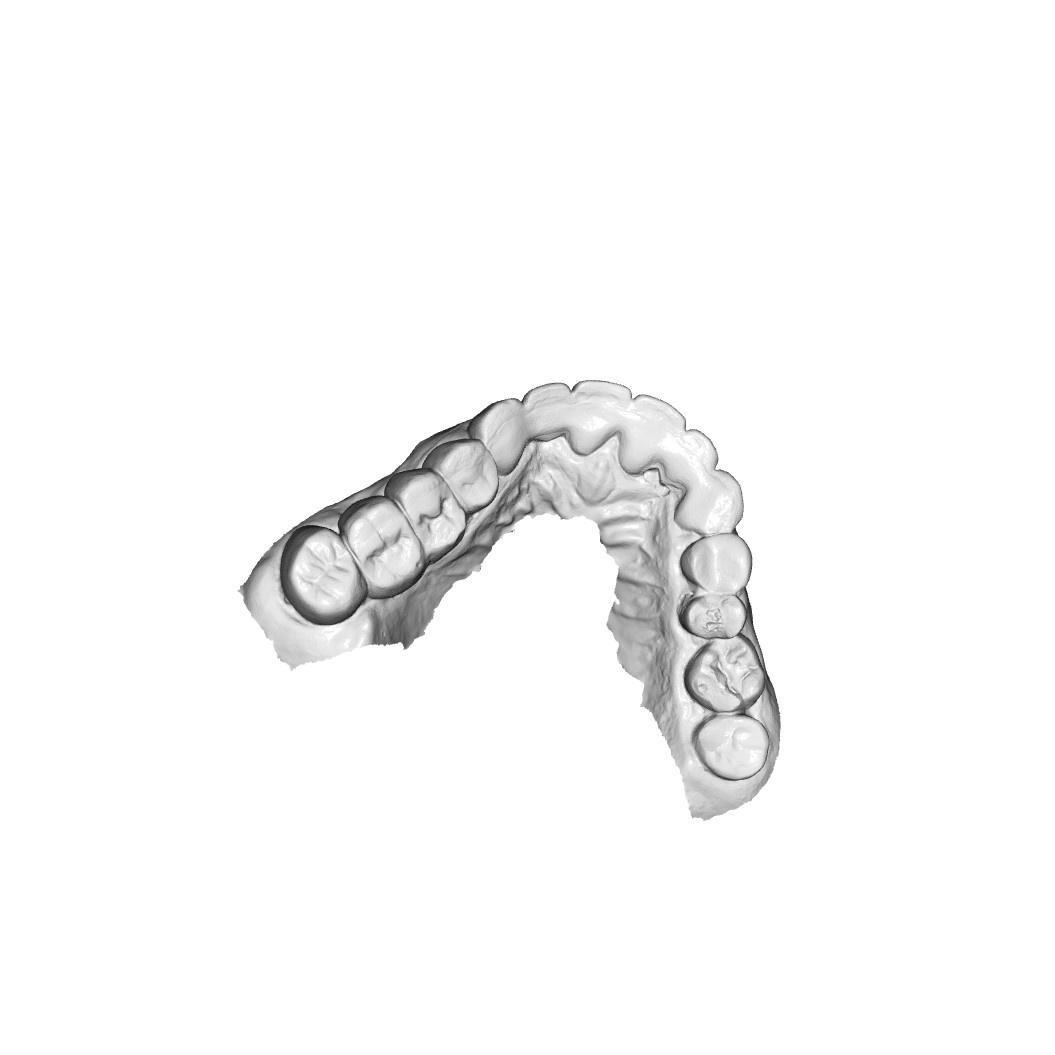canine: (470, 395, 529, 475), (679, 469, 745, 533)
incisor: (619, 395, 680, 465), (573, 377, 630, 448), (521, 384, 577, 445), (659, 430, 718, 487)
molar: (342, 498, 422, 587), (686, 634, 767, 715), (284, 529, 361, 614), (393, 468, 464, 555), (693, 713, 769, 782)
premolar: (433, 439, 500, 511), (679, 533, 754, 591), (680, 590, 750, 642)
